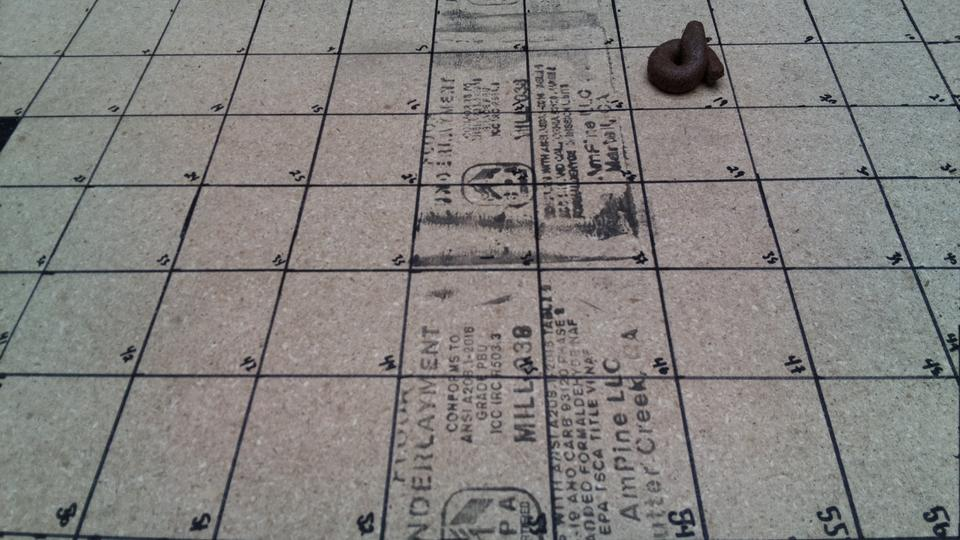poop: (572, 399, 682, 518), (122, 102, 204, 174), (784, 105, 858, 174)
